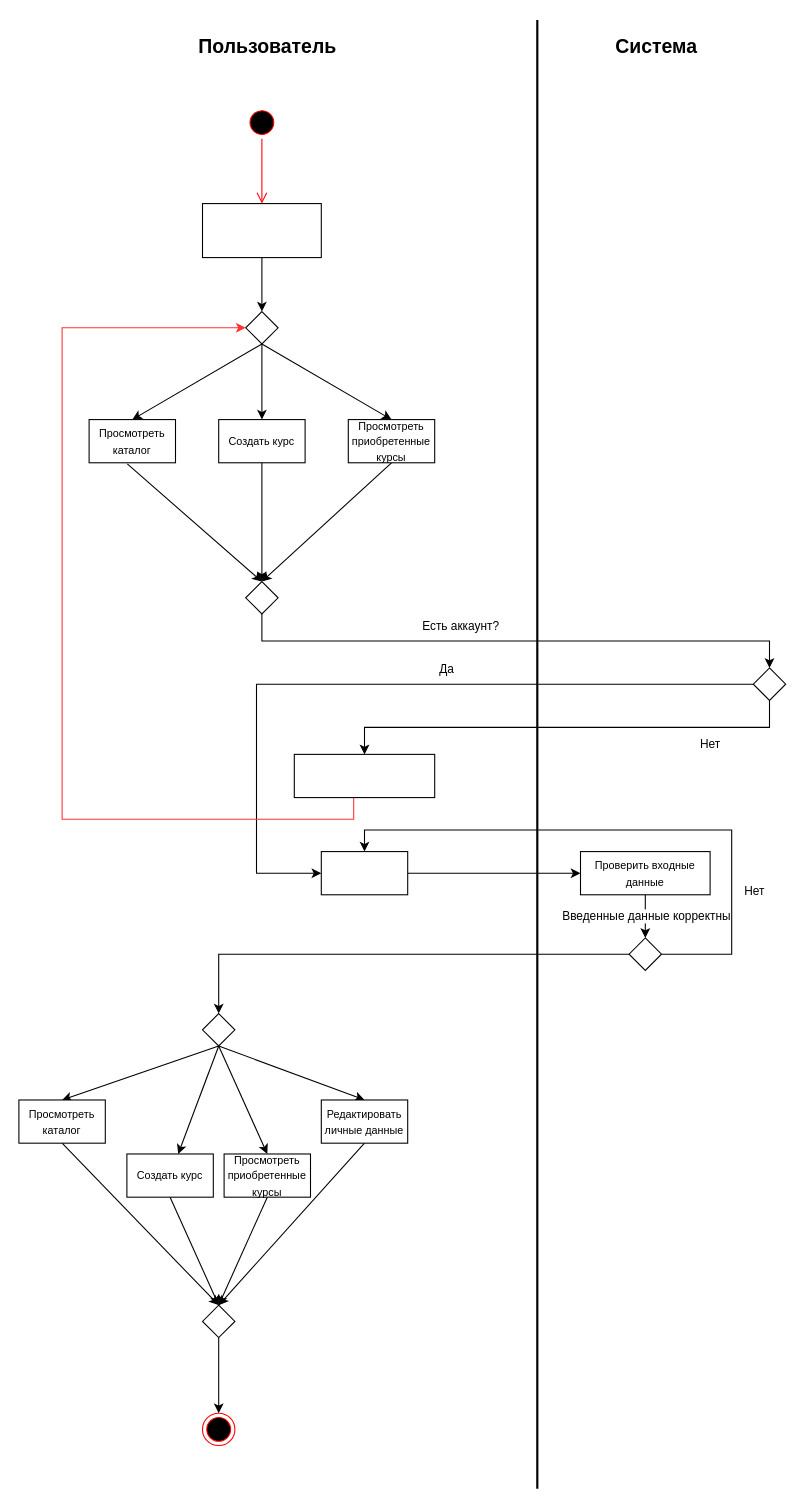
This 805x1508 diagram has some shape labels left out. Here are the shapes that lost their labels. From the top down, the box of each, then its label:
(201, 202, 321, 258): Открыть веб-приложение
(293, 753, 435, 798): Зарегистрироваться в приложении
(320, 850, 408, 895): Войти в аккаунт
